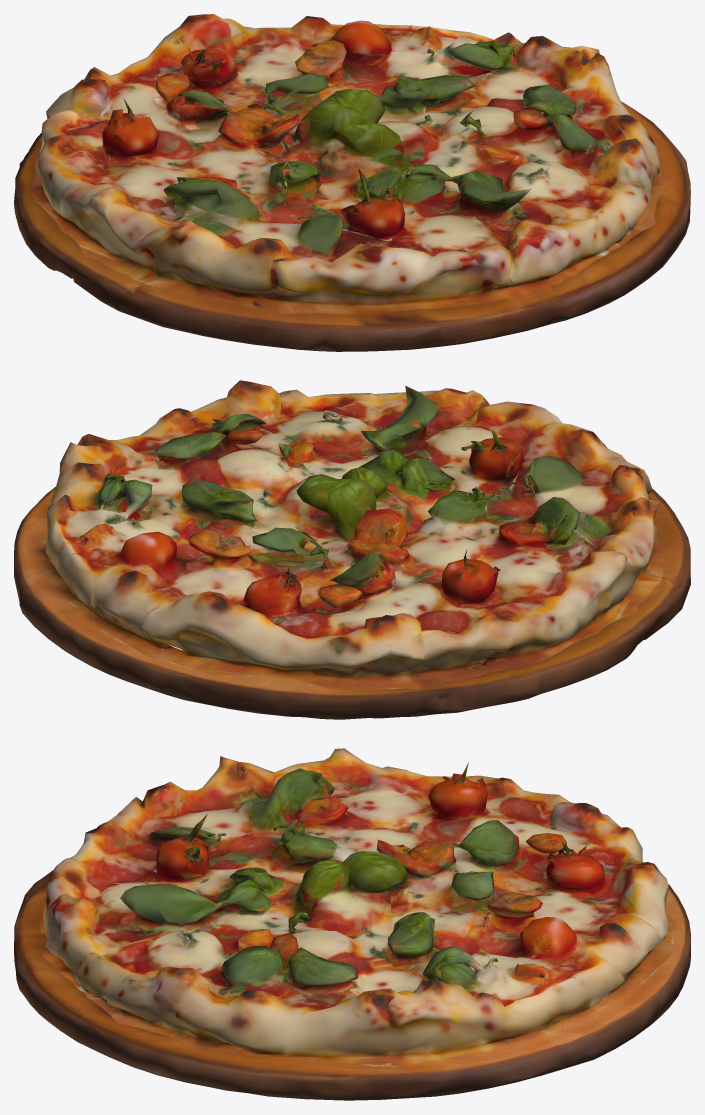
3 views of the same model, one above another, from view 1: azimuth 30°, elevation 25°; view 2: azimuth 150°, elevation 25°; view 3: azimuth 270°, elevation 25° (orthographic).
Bounding box in the file's own units: 2 × 0.3692 × 2.
Materials: 1 (1 with a texture image).
